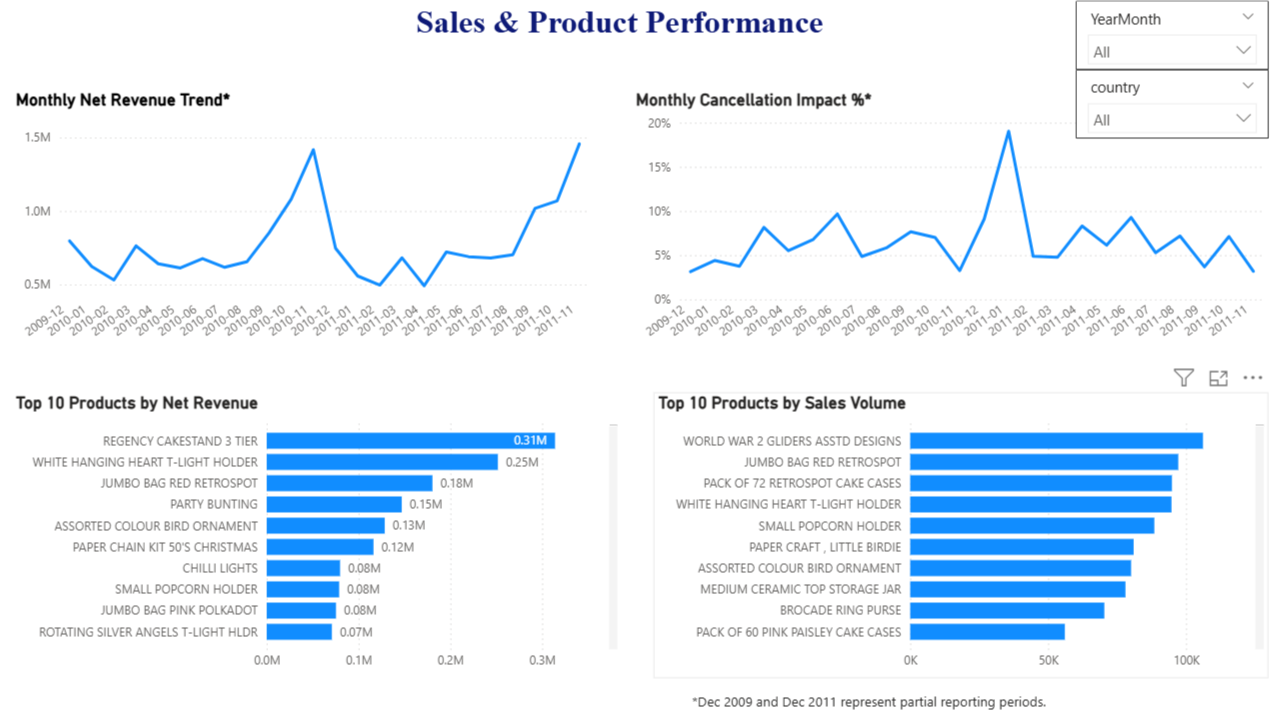

The page's visual inventory and layout, read from the dashboard file:
{"tool":"powerbi","page":{"name":"Sales & Product Performance","canvas":[1280,720],"ordinal":1},"visuals":[{"type":"textbox","box":[411.4,0,470,71.4],"z":0},{"type":"lineChart","title":"Monthly Net Revenue Trend*","fields":{"Category":["DimDate.YearMonth"],"Y":["DimCountry.Net Revenue"]},"box":[11.2,91.2,582.5,268.8],"z":1000},{"type":"lineChart","title":"Monthly Cancellation Impact %*","fields":{"Category":["DimDate.YearMonth"],"Y":["DimCountry.Cancellation Impact %"]},"box":[631.2,91.2,637.5,268.8],"z":2000},{"type":"barChart","title":"Top 10 Products by Net Revenue","fields":{"Category":["DimProduct.description"],"Y":["DimCountry.Net Revenue"]},"box":[11.2,393.8,611.2,286.2],"z":3000},{"type":"clusteredBarChart","title":"Top 10 Products by Sales Volume","fields":{"Category":["DimProduct.description"],"Y":["DimCountry.Quantity Sold"]},"box":[653.8,393.8,615,286.2],"z":4000},{"type":"textbox","box":[687.5,688.8,592.5,31.2],"z":5000},{"type":"slicer","fields":{"Values":["DimDate.YearMonth"]},"box":[1076.2,2.5,192.5,68.8],"z":6000},{"type":"slicer","fields":{"Values":["DimCountry.country"]},"box":[1076.2,71.2,192.5,68.8],"z":7000}]}

Visuals, with their boxes in screenshot pixels (x1, y1, x2, y2), scaled from the page's 1280x720 canvas onto the 1279x717 screenshot:
textbox: [411,0,881,71]
"Monthly Net Revenue Trend*" lineChart: [11,91,593,358]
"Monthly Cancellation Impact %*" lineChart: [631,91,1268,358]
"Top 10 Products by Net Revenue" barChart: [11,392,622,677]
"Top 10 Products by Sales Volume" clusteredBarChart: [653,392,1268,677]
textbox: [687,686,1278,716]
slicer - DimDate.YearMonth: [1075,2,1268,71]
slicer - DimCountry.country: [1075,71,1268,139]
